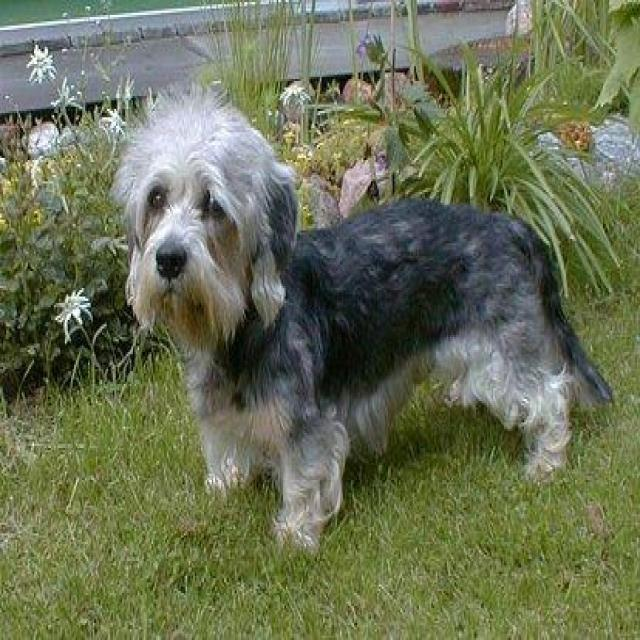dandie_dinmont: (107, 88, 615, 546)
